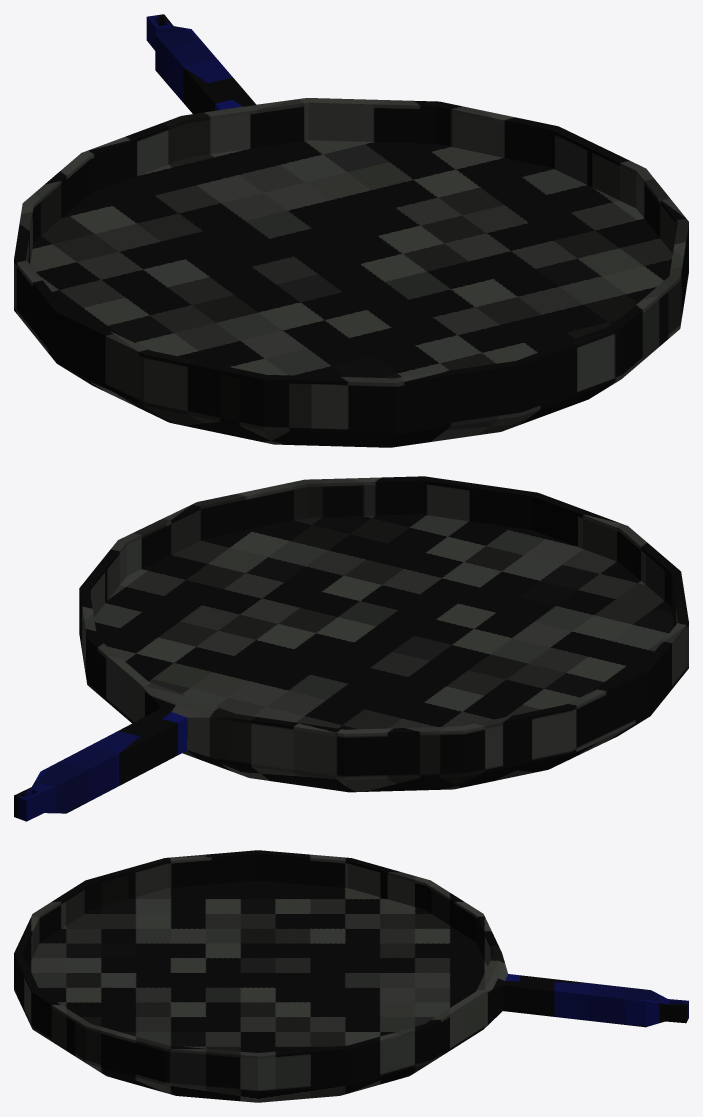
The model's file is pan.fbx.
3 views of the same model, one above another, from view 1: azimuth 30°, elevation 25°; view 2: azimuth 150°, elevation 25°; view 3: azimuth 270°, elevation 25° (orthographic). The views are drawn at different scales.
Visible parts, largest first — view 1: Pan; view 2: Pan; view 3: Pan.
Part boxes in pixels (box(x1,y1,x2,y2)): Pan: box(14, 14, 688, 447); Pan: box(14, 476, 688, 821); Pan: box(14, 850, 688, 1102).
Bounding box in the file's own units: 200 × 26.6 × 276.
2 materials, 2 textured.
